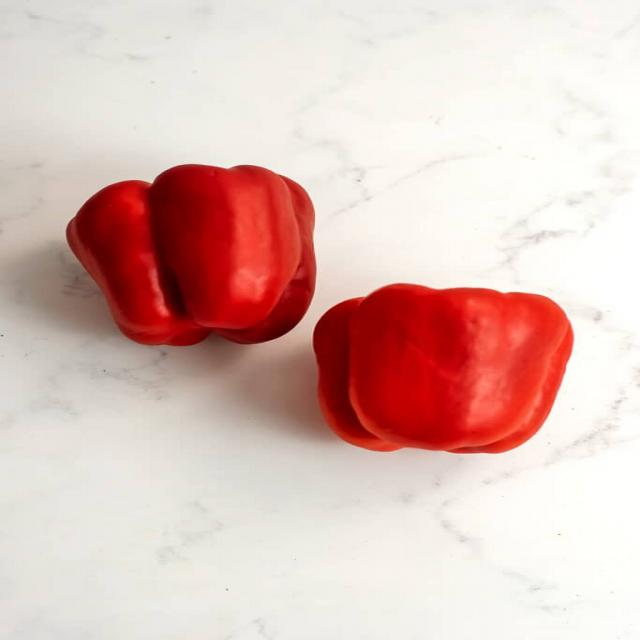pepper: (64, 164, 316, 346), (315, 281, 573, 453)
